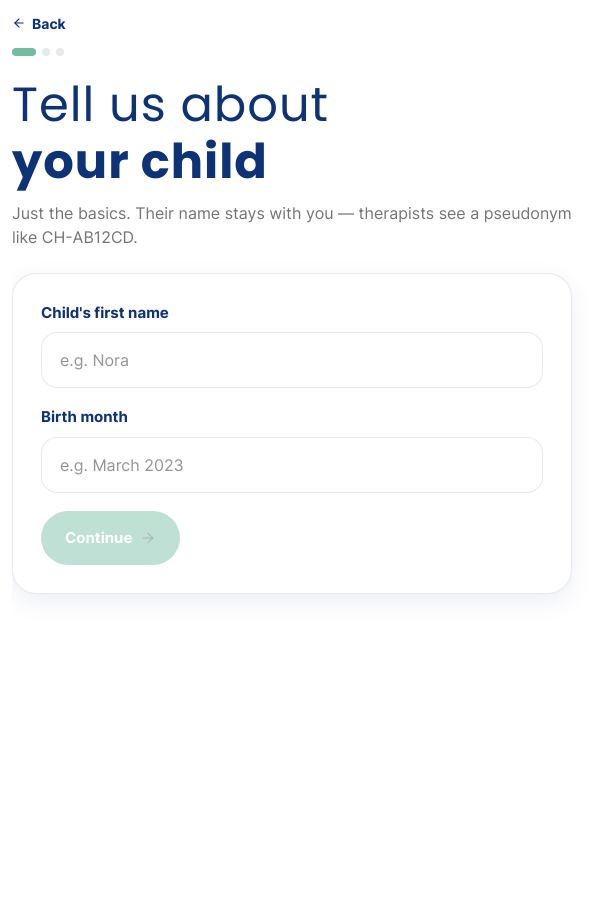
Test: ParentAddChild consent › uses no-retention wording, not 'stored securely', and keeps human-in-the-loop
Type "Nora" into the field with placeholder "e.g. Nora". click: (292, 360)
box: [41,332,543,388]
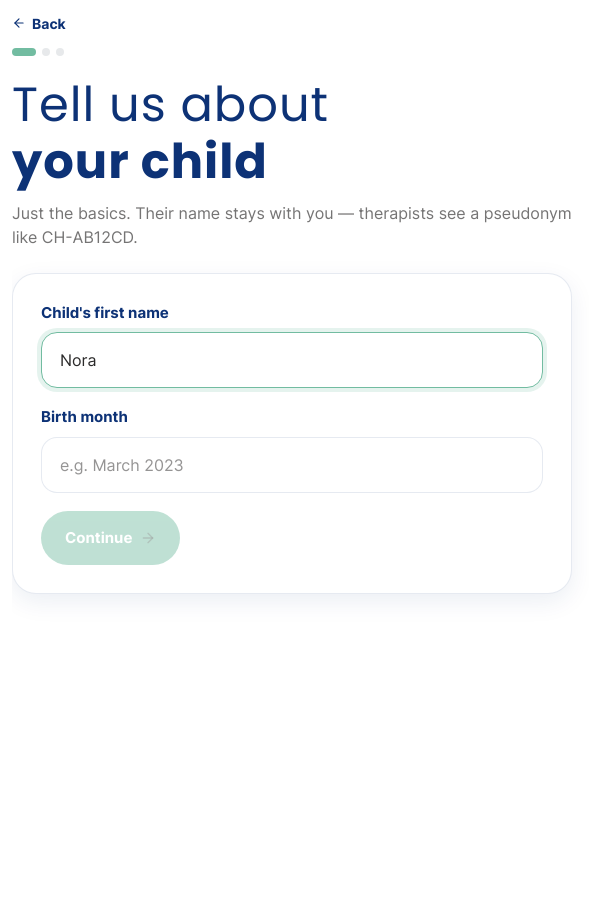
Type "March 2023" into the field with placeholder "e.g. March 2023". click: (292, 465)
box: [41,437,543,493]
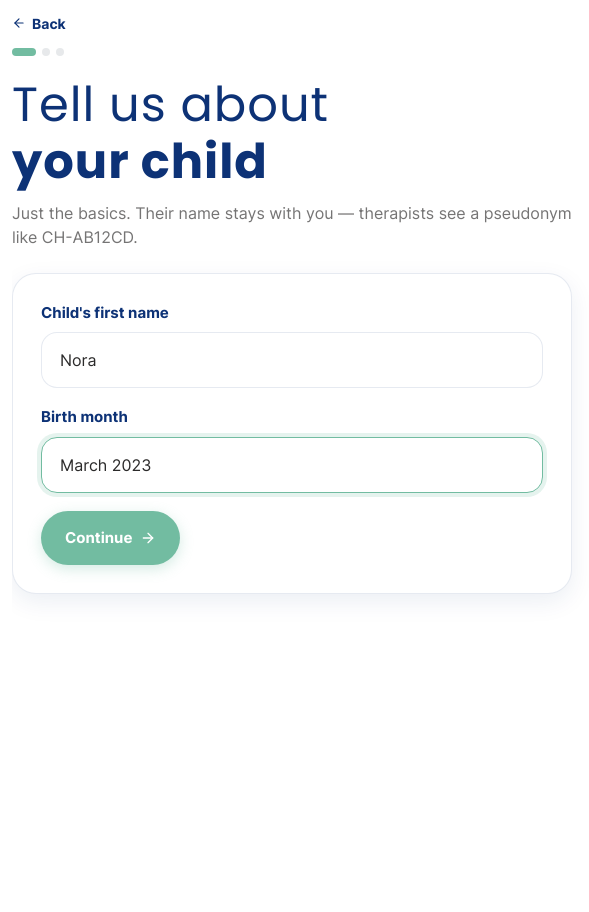
Click the button "Continue". click: click(111, 538)
box: [41,511,180,565]
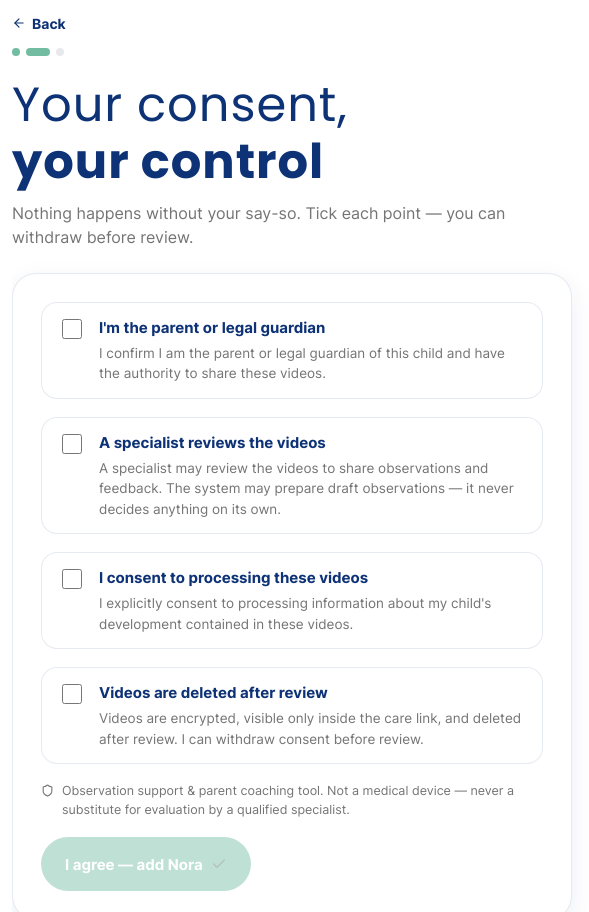
Expected: the text "encrypted, visible only inside the care link, and deleted after review" is shown, [99,710,521,747]
Expected: the text "never decides anything on its own" is shown, [99,460,514,517]
